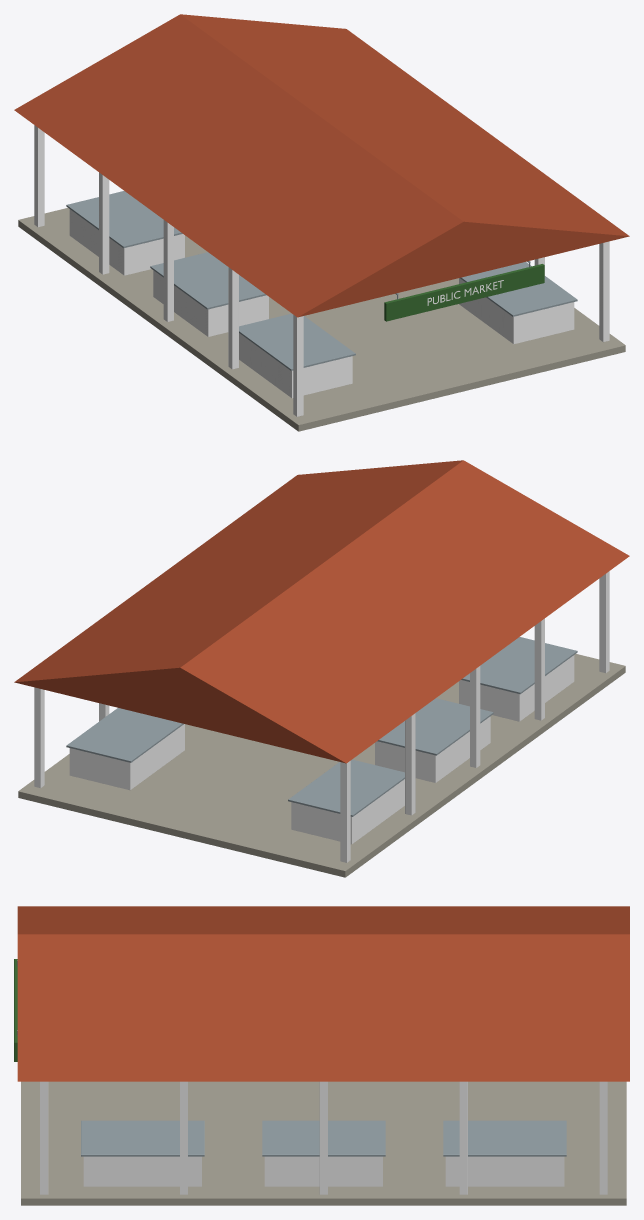
Rendered from public-market.glb.
3 views of the same model, one above another, from view 1: azimuth 30°, elevation 25°; view 2: azimuth 150°, elevation 25°; view 3: azimuth 270°, elevation 25° (orthographic). The views are drawn at different scales.
Parts seen in each view (by area): view 1: Market_Roof, Market_Slab, Stall_Worktop, Market_Header, Stall_Worktop.002, Stall_Worktop.001, Fixed_Stall_Counter, Fixed_Stall_Counter.003, Fixed_Stall_Counter.002, Fixed_Stall_Counter.001, Stall_Worktop.003, Open_Bay_Column (+5 smaller); view 2: Market_Roof, Market_Slab, Stall_Worktop.005, Stall_Worktop.002, Fixed_Stall_Counter.005, Stall_Worktop, Stall_Worktop.001, Fixed_Stall_Counter.002, Fixed_Stall_Counter, Fixed_Stall_Counter.001, Open_Bay_Column.004, Open_Bay_Column.009 (+4 smaller); view 3: Market_Roof, Market_Slab, Stall_Worktop.003, Stall_Worktop.004, Stall_Worktop.005, Fixed_Stall_Counter.005, Fixed_Stall_Counter.003, Fixed_Stall_Counter.004, Open_Bay_Column.005, Open_Bay_Column.007, Open_Bay_Column.008, Open_Bay_Column.009 (+1 smaller).
Part boxes in pixels (left/top/right/bottom): Market_Roof: left=14, top=14, right=629, bottom=317; Market_Slab: left=18, top=208, right=625, bottom=431; Stall_Worktop: left=239, top=313, right=355, bottom=370; Market_Header: left=384, top=264, right=544, bottom=321; Stall_Worktop.002: left=66, top=191, right=182, bottom=248; Stall_Worktop.001: left=150, top=252, right=266, bottom=309; Fixed_Stall_Counter: left=239, top=333, right=352, bottom=398; Fixed_Stall_Counter.003: left=459, top=278, right=574, bottom=344; Fixed_Stall_Counter.002: left=69, top=209, right=184, bottom=275; Fixed_Stall_Counter.001: left=153, top=270, right=268, bottom=336; Stall_Worktop.003: left=460, top=262, right=577, bottom=316; Open_Bay_Column: left=293, top=315, right=303, bottom=416; Market_Roof: left=14, top=460, right=629, bottom=763; Market_Slab: left=18, top=654, right=625, bottom=877; Stall_Worktop.005: left=66, top=708, right=183, bottom=762; Stall_Worktop.002: left=288, top=759, right=404, bottom=816; Fixed_Stall_Counter.005: left=69, top=724, right=184, bottom=790; Stall_Worktop: left=461, top=637, right=577, bottom=694; Stall_Worktop.001: left=377, top=698, right=493, bottom=755; Fixed_Stall_Counter.002: left=291, top=779, right=404, bottom=844; Fixed_Stall_Counter: left=459, top=655, right=574, bottom=721; Fixed_Stall_Counter.001: left=375, top=716, right=490, bottom=782; Open_Bay_Column.004: left=340, top=761, right=350, bottom=862; Open_Bay_Column.009: left=34, top=687, right=44, bottom=788; Market_Roof: left=17, top=906, right=629, bottom=1081; Market_Slab: left=21, top=1081, right=626, bottom=1205; Stall_Worktop.003: left=81, top=1120, right=204, bottom=1156; Stall_Worktop.004: left=262, top=1120, right=385, bottom=1156; Stall_Worktop.005: left=443, top=1120, right=566, bottom=1156; Fixed_Stall_Counter.005: left=445, top=1156, right=564, bottom=1186; Fixed_Stall_Counter.003: left=83, top=1156, right=201, bottom=1186; Fixed_Stall_Counter.004: left=264, top=1156, right=382, bottom=1186; Open_Bay_Column.005: left=40, top=1081, right=48, bottom=1194; Open_Bay_Column.007: left=319, top=1081, right=327, bottom=1194; Open_Bay_Column.008: left=459, top=1081, right=467, bottom=1194; Open_Bay_Column.009: left=599, top=1081, right=607, bottom=1194.
Size of the model in its own units: 12.6 by 6.2 by 18.71.
